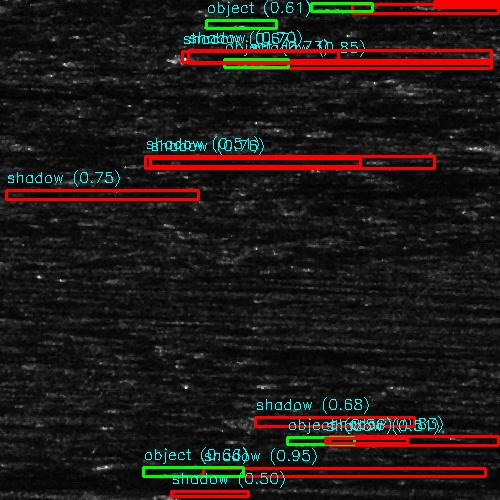rock: (204, 411, 277, 428), (130, 468, 265, 477), (193, 20, 276, 27), (334, 2, 397, 11), (0, 193, 17, 198)
shadow: (241, 411, 472, 428), (0, 474, 170, 491), (198, 468, 500, 477), (366, 2, 500, 11), (0, 193, 204, 198), (235, 20, 311, 27)
